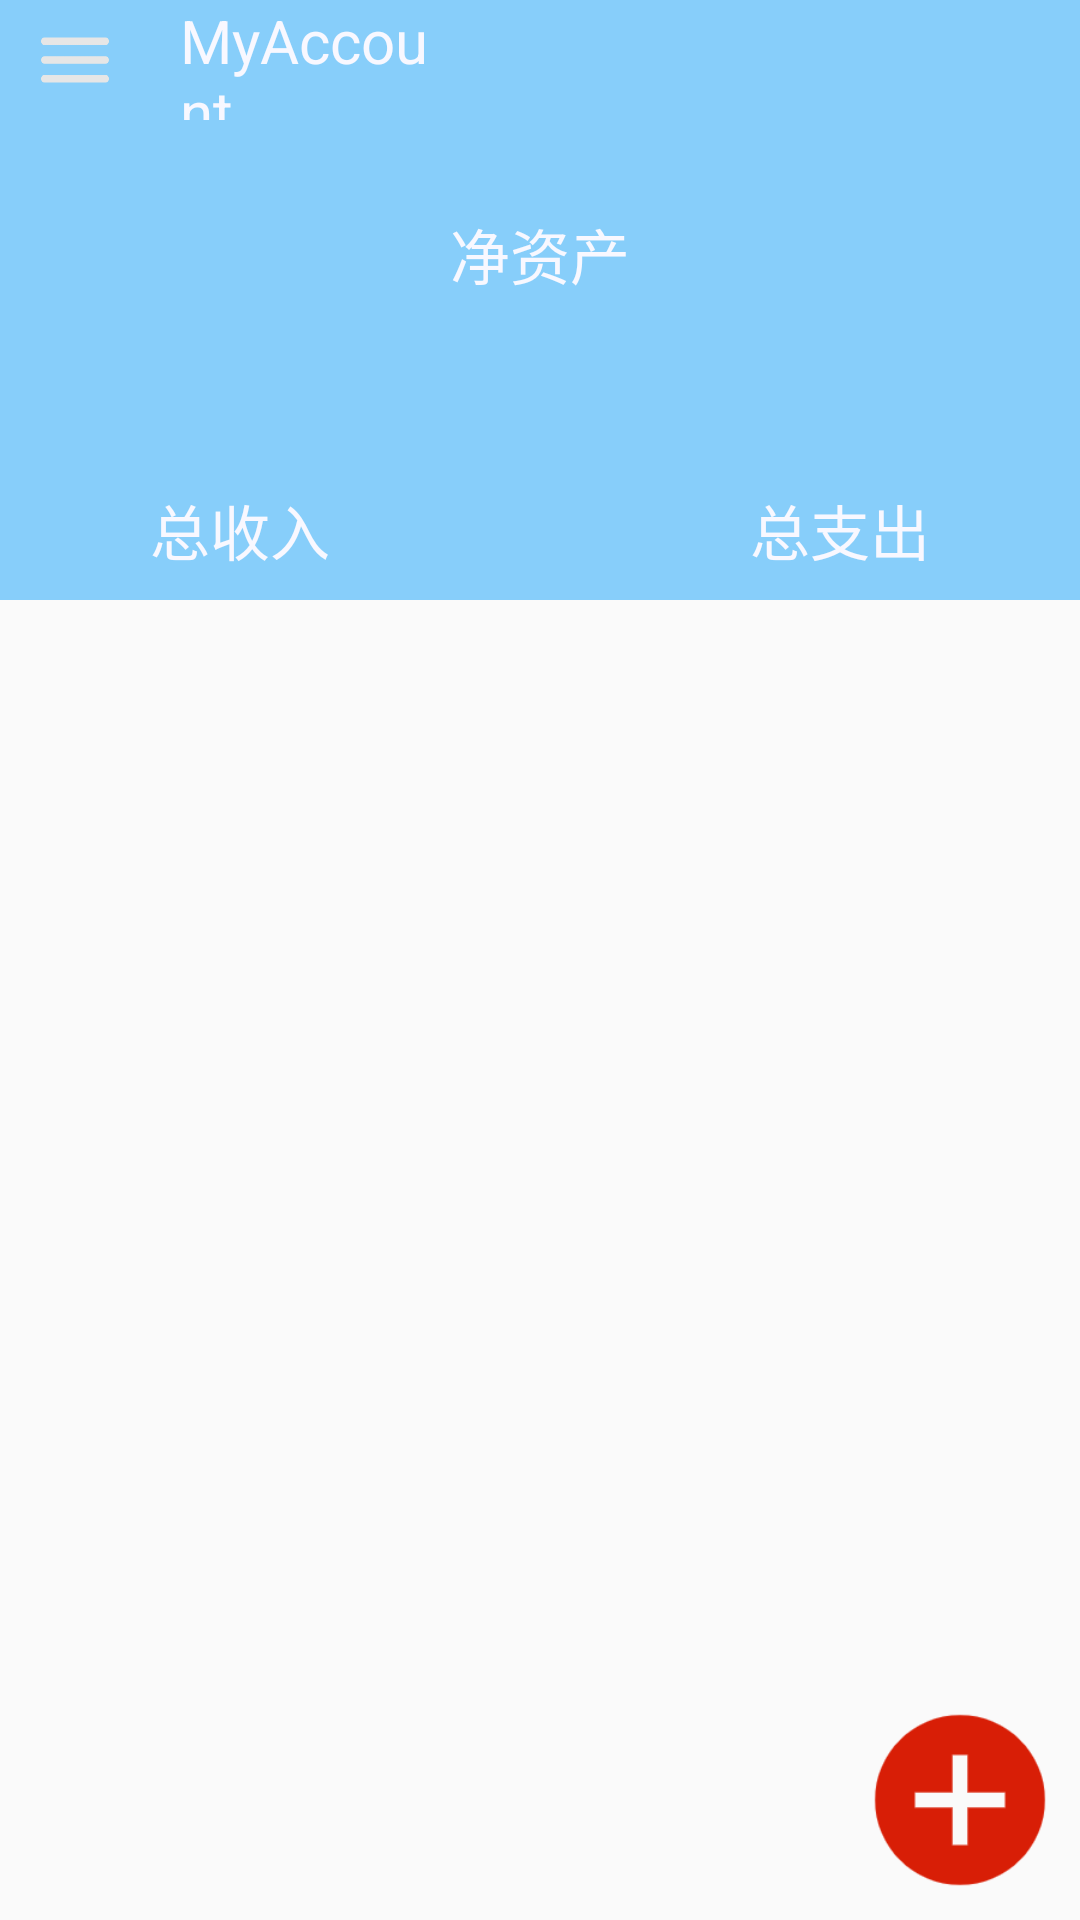

Icon click points for this 1080x1920 phone screenshot, format (x=x, y=y):
index menu: (x=75, y=60)
